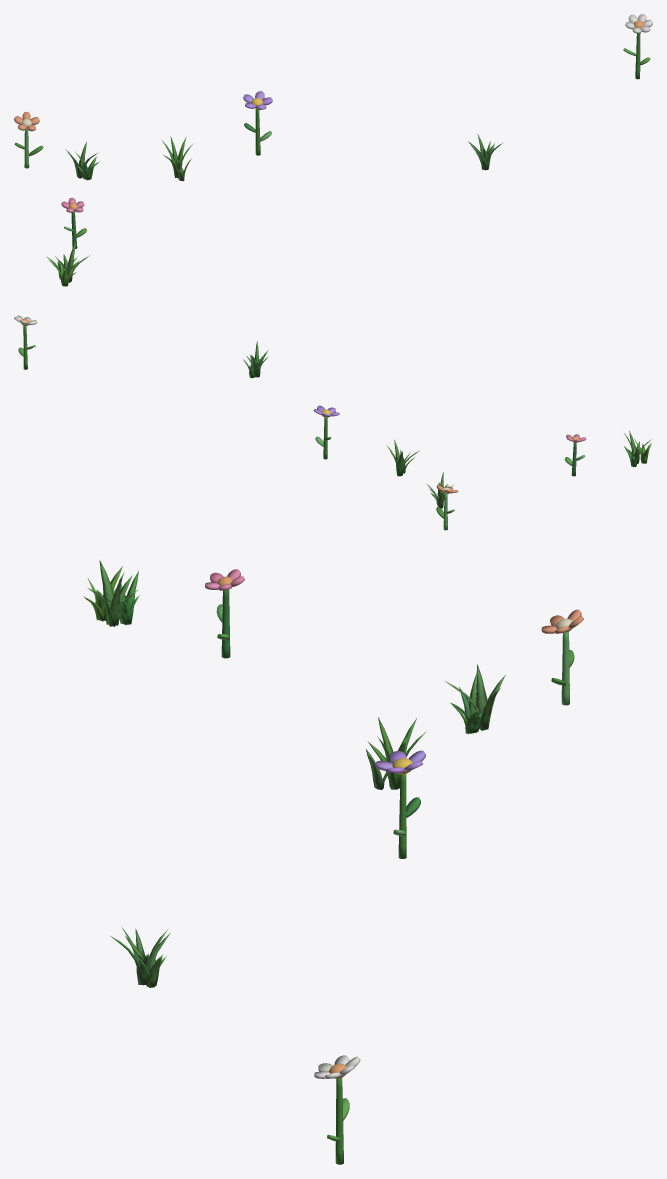
The model's file is W3_FloraRing_10_11.fbx.
3 views of the same model, one above another, from view 1: azimuth 30°, elevation 25°; view 2: azimuth 150°, elevation 25°; view 3: azimuth 270°, elevation 25° (orthographic). The views are drawn at different scales.
Parts seen in each view (by area): view 1: W3_FloraRing_10_11; view 2: W3_FloraRing_10_11; view 3: W3_FloraRing_10_11.
Boxes of the visible parts, x1=… form: W3_FloraRing_10_11: x1=14, y1=14, x2=652, y2=286; W3_FloraRing_10_11: x1=14, y1=315, x2=651, y2=530; W3_FloraRing_10_11: x1=83, y1=560, x2=583, y2=1164.
Size of the model in its own units: 2.61 by 0.2399 by 0.9776.
